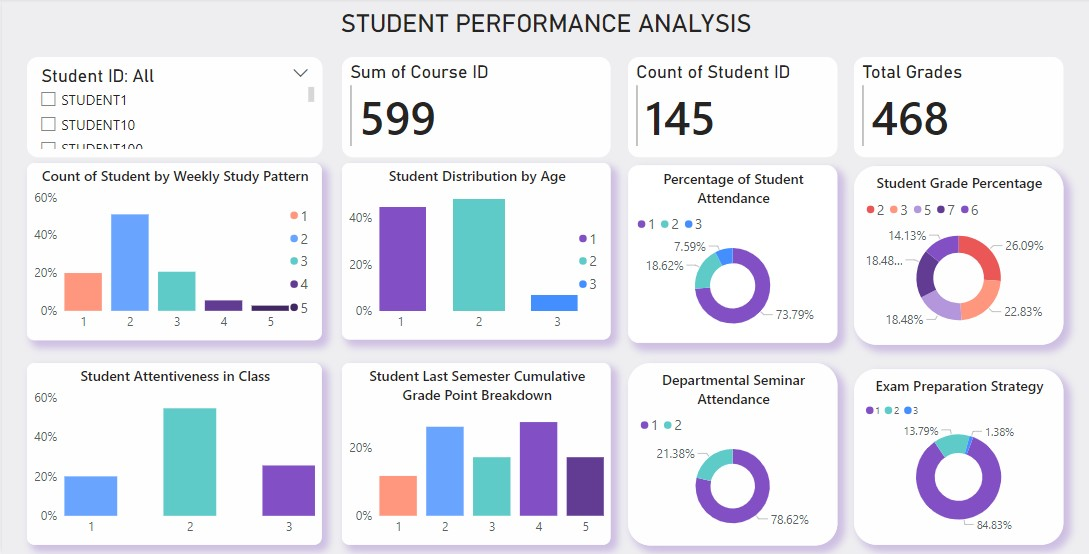

The dashboard page shown, as its layout file describes it:
{"tool":"powerbi","page":{"name":"Dashboard","canvas":[1454,746],"ordinal":0},"visuals":[{"type":"multiRowCard","title":"Count of Student ID","fields":{"Values":["Count(DATA (1).STUDENT ID)"]},"box":[836.5,78.4,279.7,133.8],"z":0},{"type":"donutChart","title":"Exam Preparation Strategy ","fields":{"Y":["CountNonNull(DATA (1).STUDENT ID)"],"Category":["DATA (1).24"]},"box":[1139.1,495.9,279.7,235.1],"z":1000},{"type":"donutChart","title":"Departmental Seminar Attendance ","fields":{"Category":["DATA (1).20"],"Y":["Divide(CountNonNull(DATA (1).STUDENT ID), ScopedEval(CountNonNull(DATA (1).STUDENT ID), []))"]},"box":[836.4,487.8,279.9,243.9],"z":2000},{"type":"clusteredColumnChart","title":"Student Last Semester Cumulative Grade Point Breakdown","fields":{"Category":["DATA (1).29"],"Y":["Divide(CountNonNull(DATA (1).STUDENT ID), ScopedEval(CountNonNull(DATA (1).STUDENT ID), []))"]},"box":[454,487.8,359.4,243.2],"z":3000},{"type":"donutChart","title":"Percentage of Student Attendance","fields":{"Y":["CountNonNull(DATA (1).STUDENT ID)"],"Category":["DATA (1).23"]},"box":[836.4,223.6,279.9,237.6],"z":4000},{"type":"columnChart","title":"Student Distribution by Age","fields":{"Category":["DATA (1).1"],"Y":["CountNonNull(DATA (1).STUDENT ID)"],"Series":["DATA (1).1"]},"box":[454,220.3,359.4,236.5],"z":5000},{"type":"donutChart","title":"Student Grade Percentage","fields":{"Category":["DATA (1).GRADE"],"Y":["CountNonNull(DATA (1).STUDENT ID)"]},"box":[1139.1,224.3,279.7,239.2],"z":6000},{"type":"clusteredColumnChart","title":"Student Attentiveness in Class","fields":{"Category":["DATA (1).26"],"Y":["CountNonNull(DATA (1).STUDENT ID)"]},"box":[33.4,488,394.4,243.3],"z":7000},{"type":"columnChart","title":"Count of Student by Weekly Study Pattern","fields":{"Category":["DATA (1).17"],"Y":["Divide(CountNonNull(DATA (1).STUDENT ID), ScopedEval(CountNonNull(DATA (1).STUDENT ID), []))"],"Series":["DATA (1).17"]},"box":[33.4,220.6,394.4,236.6],"z":8000},{"type":"textbox","box":[0,9.4,1454.6,57.5],"z":9000},{"type":"multiRowCard","title":"Sum of Course ID","fields":{"Values":["Sum(DATA (1).COURSE ID)"]},"box":[454,78.4,359.4,133.8],"z":10000},{"type":"multiRowCard","title":"Total Grades","fields":{"Values":["Sum(DATA (1).GRADE)"]},"box":[1139.1,78.4,279.7,133.8],"z":11000},{"type":"slicer","fields":{"Values":["DATA (1).STUDENT ID"]},"box":[33.8,78.4,394.6,133.8],"z":12000}]}

Visuals, with their boxes in screenshot pixels (x1, y1, x2, y2), scaled from the page's 1454x746 canvas onto the 1089x554 screenshot:
"Count of Student ID" multiRowCard: detection(627, 58, 836, 158)
"Exam Preparation Strategy " donutChart: detection(853, 368, 1063, 543)
"Departmental Seminar Attendance " donutChart: detection(626, 362, 836, 543)
"Student Last Semester Cumulative Grade Point Breakdown" clusteredColumnChart: detection(340, 362, 609, 543)
"Percentage of Student Attendance" donutChart: detection(626, 166, 836, 342)
"Student Distribution by Age" columnChart: detection(340, 164, 609, 339)
"Student Grade Percentage" donutChart: detection(853, 167, 1063, 344)
"Student Attentiveness in Class" clusteredColumnChart: detection(25, 362, 320, 543)
"Count of Student by Weekly Study Pattern" columnChart: detection(25, 164, 320, 340)
textbox: detection(0, 7, 1088, 50)
"Sum of Course ID" multiRowCard: detection(340, 58, 609, 158)
"Total Grades" multiRowCard: detection(853, 58, 1063, 158)
slicer - DATA (1).STUDENT ID: detection(25, 58, 321, 158)
